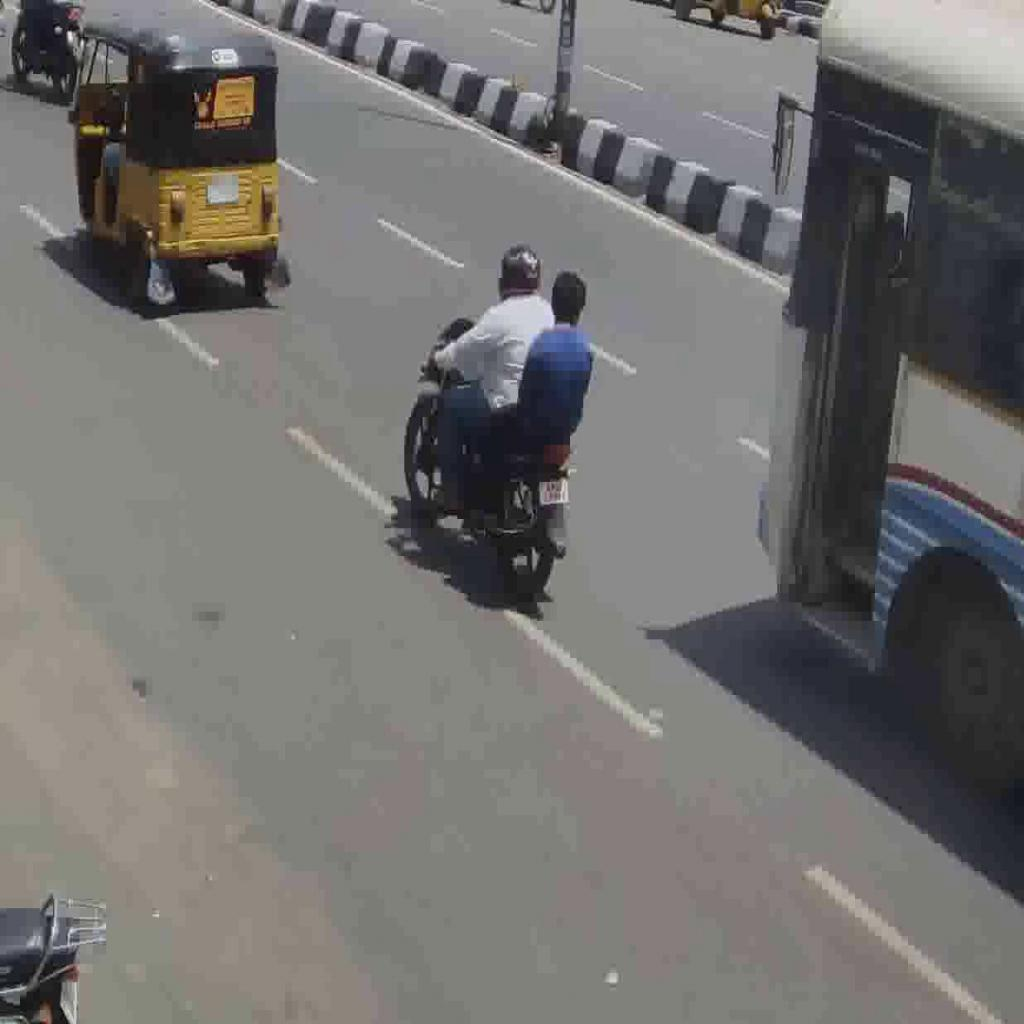helmet: (403, 312, 578, 602)
